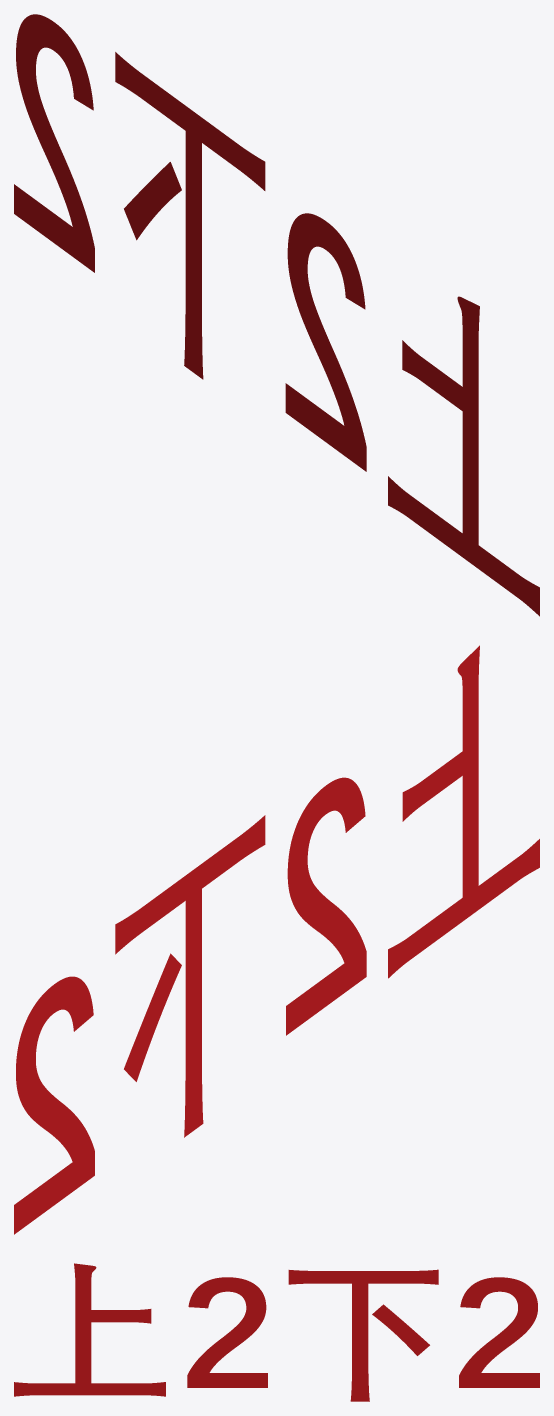
The picture shows the model from 3 angles, top to bottom: view 1: azimuth 30°, elevation 25°; view 2: azimuth 150°, elevation 25°; view 3: azimuth 270°, elevation 25°; orthographic projection. The views are drawn at different scales.
Visible parts, largest first — view 1: Text; view 2: Text; view 3: Text.
Part boxes in pixels (<box>): Text: <box>14,14,539,616</box>; Text: <box>14,645,539,1234</box>; Text: <box>14,1263,539,1401</box>.
Bounding box in the file's own units: 0.0565 × 71.64 × 247.
